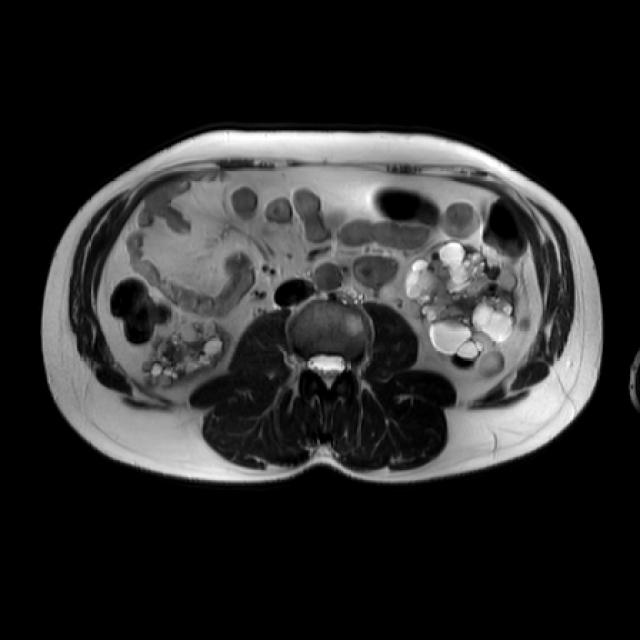sag: (144, 319, 234, 388)
sol: (407, 242, 533, 375)
